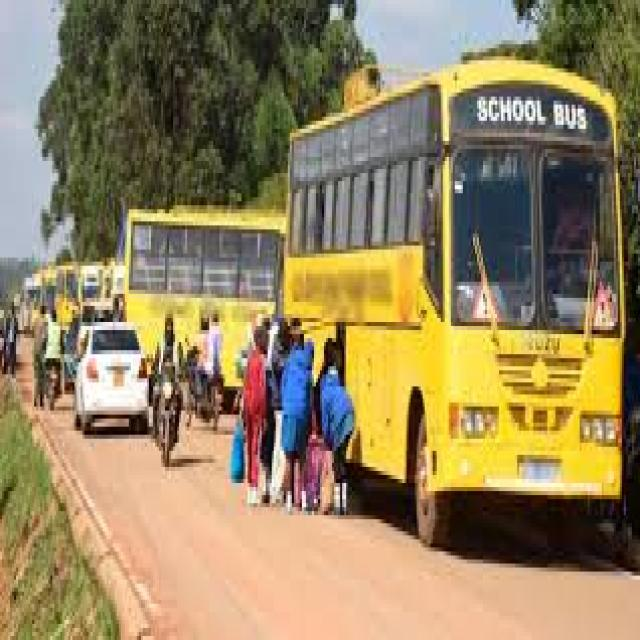bodaboda: (149, 371, 188, 463), (38, 348, 63, 410)
bus: (360, 44, 632, 552)
